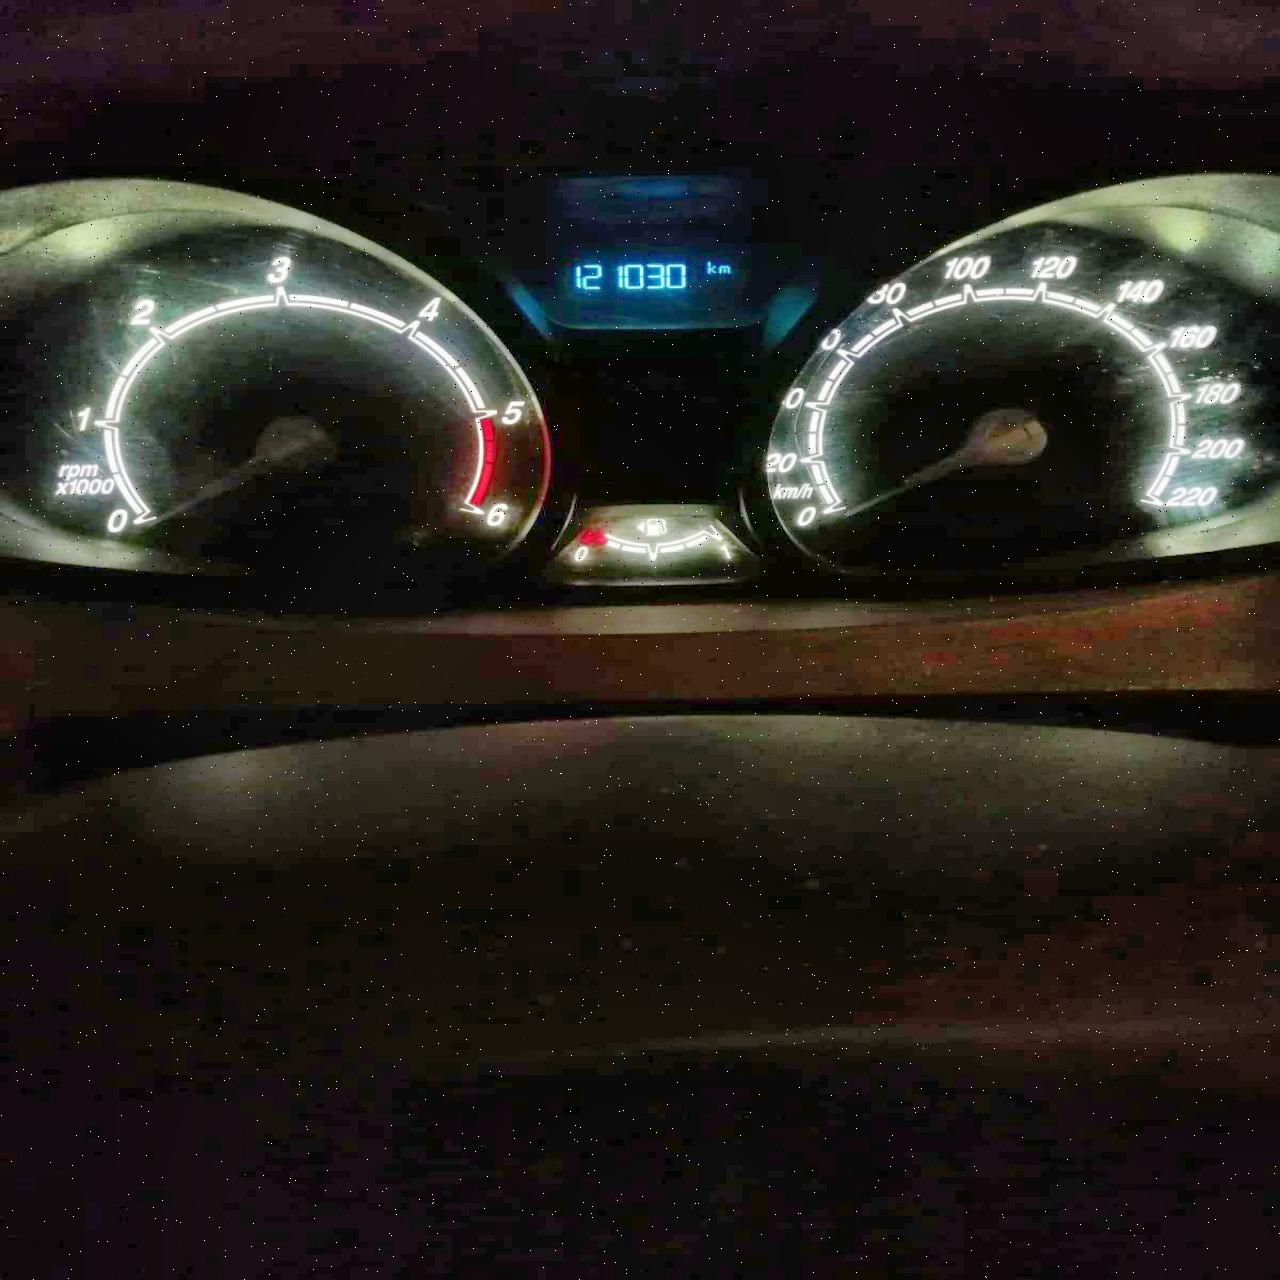0: (665, 261, 687, 288), (622, 263, 645, 290)
1: (572, 264, 583, 291), (615, 263, 624, 290)
2: (584, 263, 604, 290)
3: (646, 261, 665, 290)
X: (707, 260, 717, 274), (720, 264, 730, 274)
odometer: (539, 239, 774, 309)
